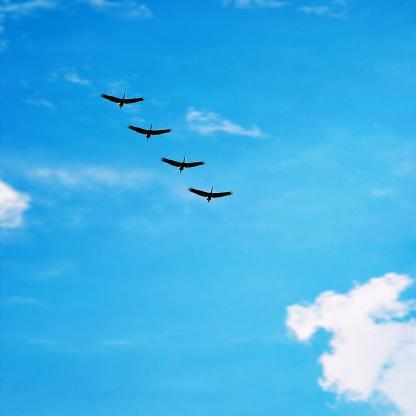bird: (160, 157, 205, 174), (102, 92, 144, 110), (189, 187, 232, 203), (128, 124, 171, 140)
